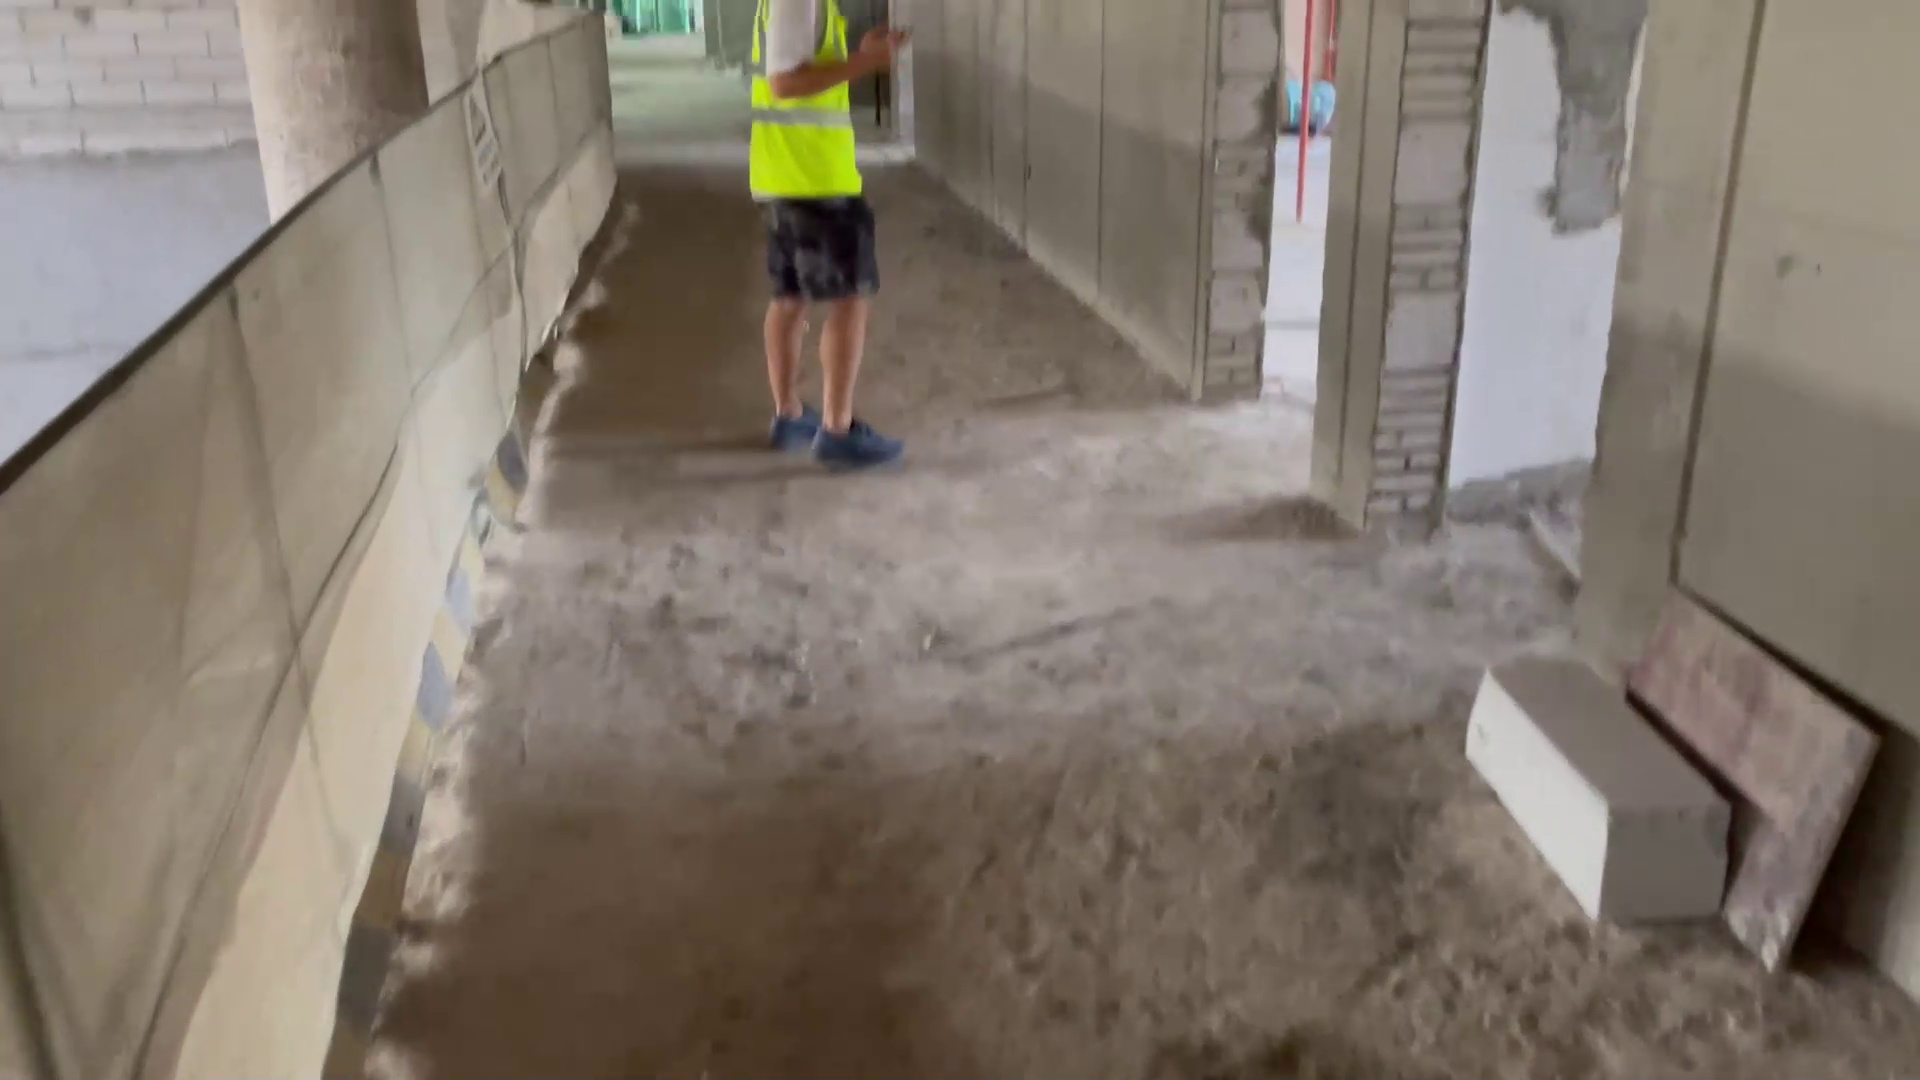person: (738, 1, 922, 480)
vest: (751, 1, 876, 208)
